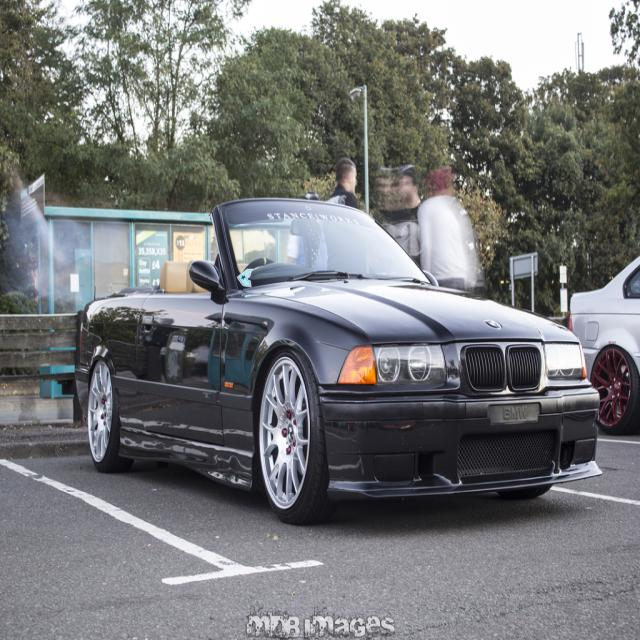car: (66, 193, 596, 527)
